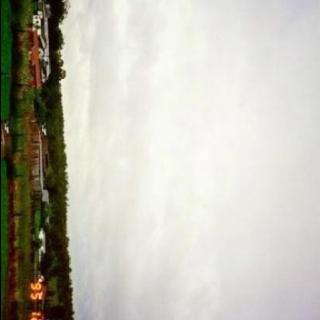Stratus: (76, 0, 320, 320)
